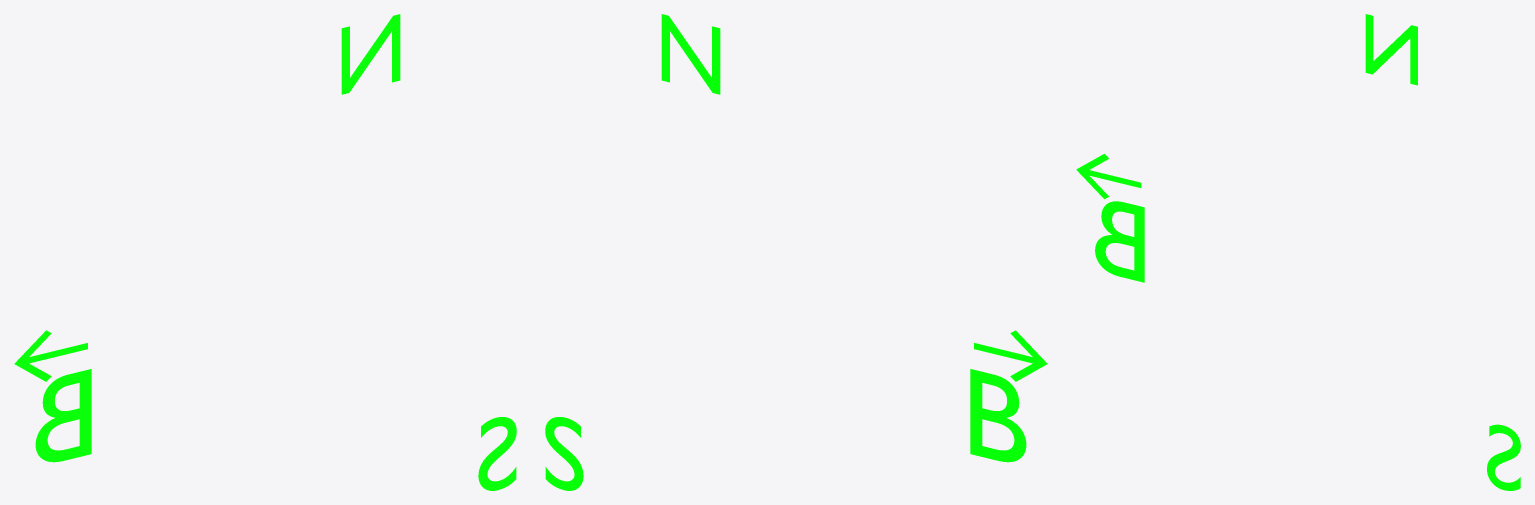
The model's file is polos norte-sur y B.glb.
The picture shows the model from 3 angles, left to right: view 1: azimuth 30°, elevation 25°; view 2: azimuth 150°, elevation 25°; view 3: azimuth 330°, elevation 25°; orthographic projection. The views are drawn at different scales.
Visible parts, largest first — view 1: Text, Text.002, Text.003, Text.001; view 2: Text, Text.002, Text.003, Text.001; view 3: Text, Text.002, Text.003, Text.001.
Part boxes in pixels (x1=…): Text: x1=35, y1=369, x2=91, y2=462; Text.002: x1=341, y1=14, x2=400, y2=94; Text.003: x1=478, y1=417, x2=516, y2=490; Text.001: x1=14, y1=330, x2=87, y2=381; Text: x1=970, y1=369, x2=1026, y2=462; Text.002: x1=661, y1=14, x2=720, y2=94; Text.003: x1=545, y1=417, x2=583, y2=490; Text.001: x1=974, y1=330, x2=1047, y2=381; Text: x1=1095, y1=201, x2=1144, y2=282; Text.002: x1=1365, y1=14, x2=1417, y2=85; Text.003: x1=1487, y1=424, x2=1520, y2=490; Text.001: x1=1076, y1=154, x2=1141, y2=199.
Size of the model in its own units: 6.93 by 6.59 by 1.85e-07.
